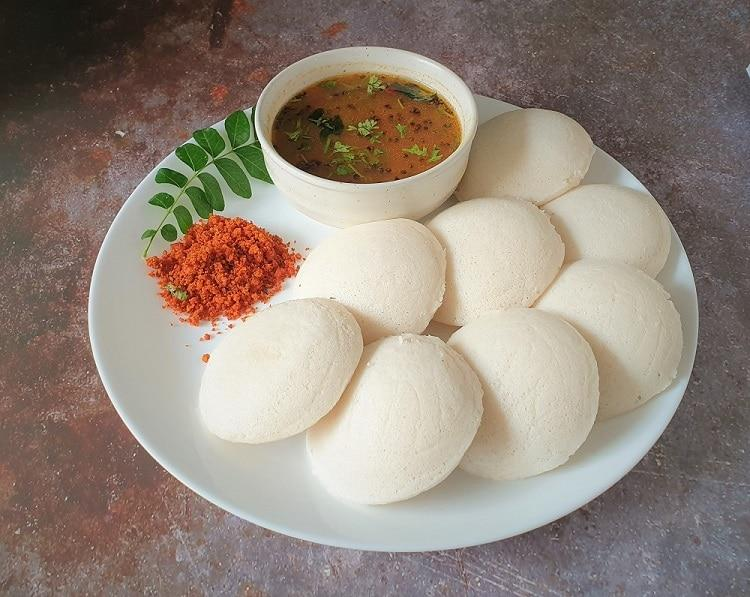idli: (266, 144, 651, 455)
sambhar: (276, 76, 451, 174)
